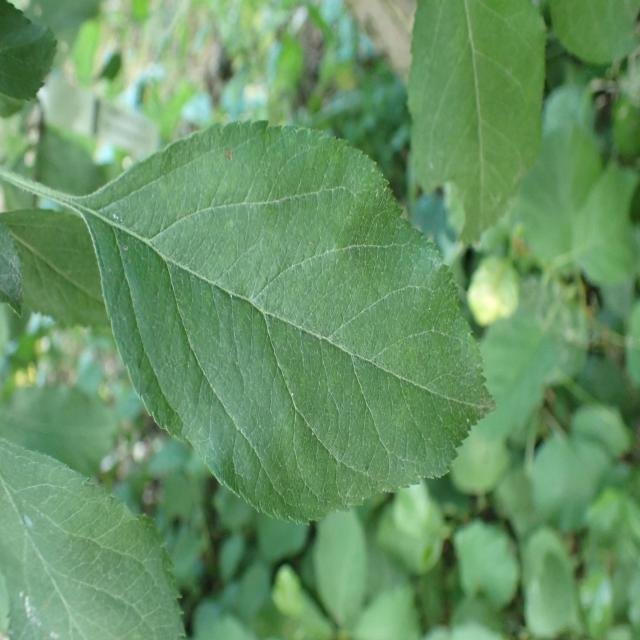healthy: (80, 118, 498, 526), (0, 437, 187, 640), (406, 0, 547, 250), (0, 207, 113, 336)
